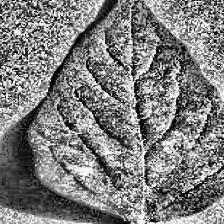spider mites: (29, 0, 224, 222)
